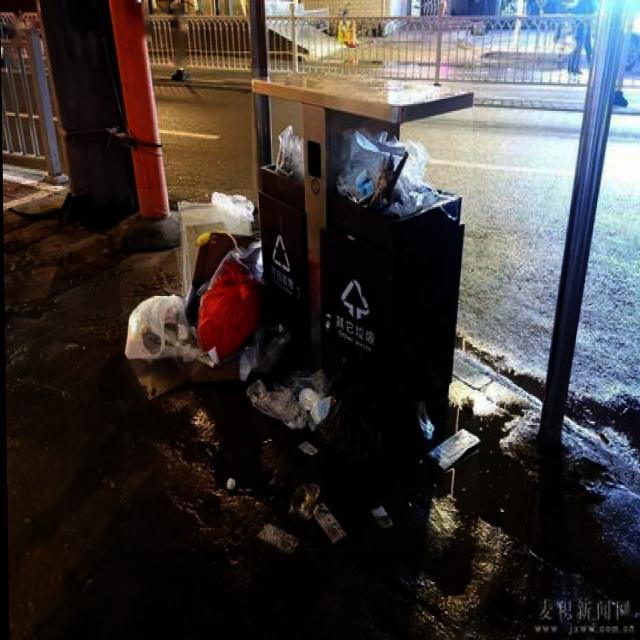garbage: (119, 189, 479, 552)
overflow: (251, 68, 476, 440)
